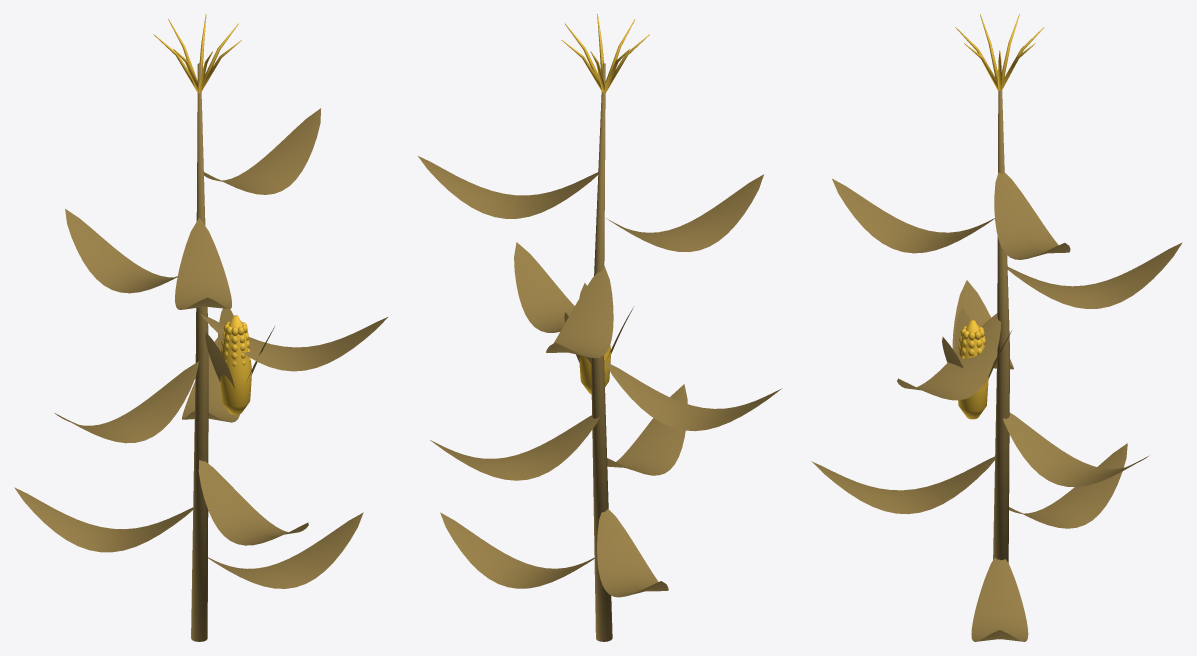
The model's file is crop-corn-wilted.glb.
The picture shows the model from 3 angles, left to right: view 1: azimuth 30°, elevation 25°; view 2: azimuth 150°, elevation 25°; view 3: azimuth 270°, elevation 25°; orthographic projection.
Visible parts, largest first — view 1: crop_corn_wilted; view 2: crop_corn_wilted; view 3: crop_corn_wilted.
Part boxes in pixels (x1,y1,x2,y2): crop_corn_wilted: (14, 14, 387, 641); crop_corn_wilted: (418, 14, 781, 641); crop_corn_wilted: (811, 14, 1182, 641).
Bounding box in the file's own units: 0.9924 × 1.76 × 0.9809.
